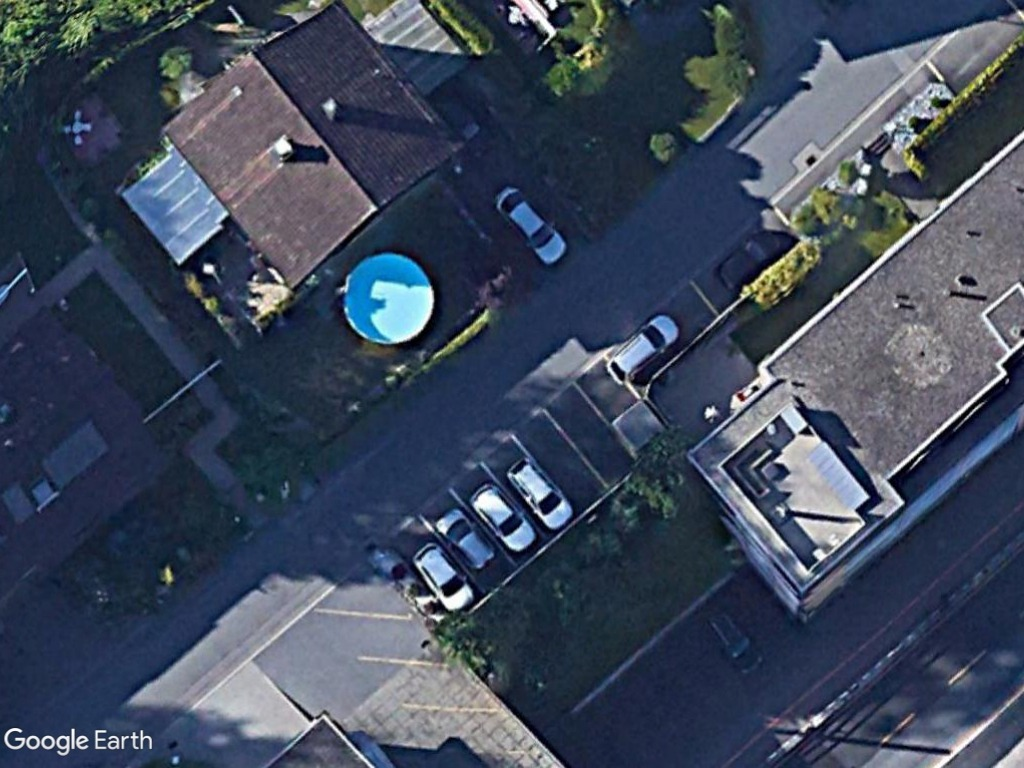car: (492, 183, 572, 269), (604, 313, 681, 389), (464, 478, 538, 556), (504, 457, 576, 534), (409, 541, 479, 615), (431, 506, 498, 572)
